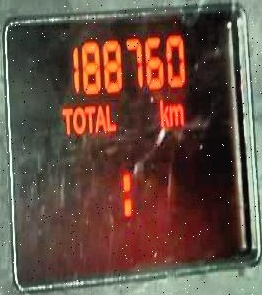0: (164, 33, 184, 86)
1: (71, 45, 78, 94)
6: (144, 34, 163, 88)
7: (124, 37, 143, 88)
8: (80, 39, 100, 94), (101, 39, 121, 92)
X: (122, 171, 131, 215), (72, 104, 85, 134), (59, 106, 72, 135), (168, 103, 184, 125), (93, 103, 105, 132), (83, 104, 94, 134), (104, 103, 115, 131), (159, 98, 169, 126)
